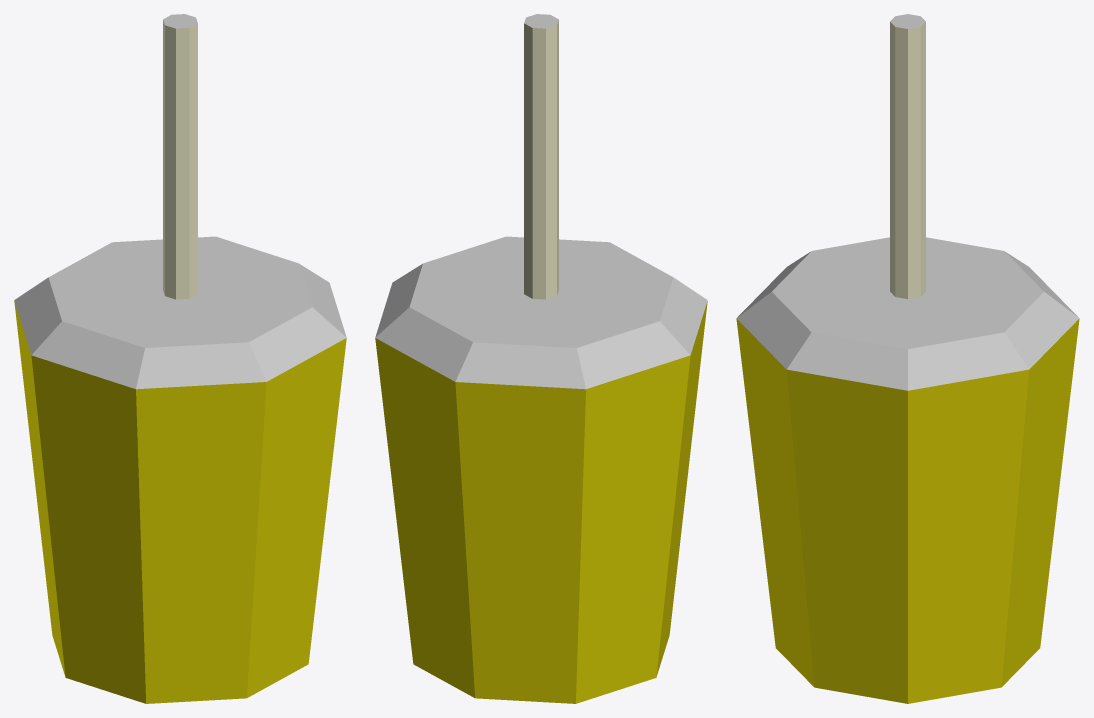
File: Lemonade.fbx
3 views of the same model, side by side, from view 1: azimuth 30°, elevation 25°; view 2: azimuth 150°, elevation 25°; view 3: azimuth 270°, elevation 25° (orthographic).
Parts seen in each view (by area): view 1: Lemonade; view 2: Lemonade; view 3: Lemonade.
Boxes of the visible parts, box(x1,y1,x2,y2) form: Lemonade: box(14, 14, 346, 703); Lemonade: box(375, 14, 707, 703); Lemonade: box(736, 14, 1079, 703).
Size of the model in its own units: 9.38 by 18.89 by 9.38.
